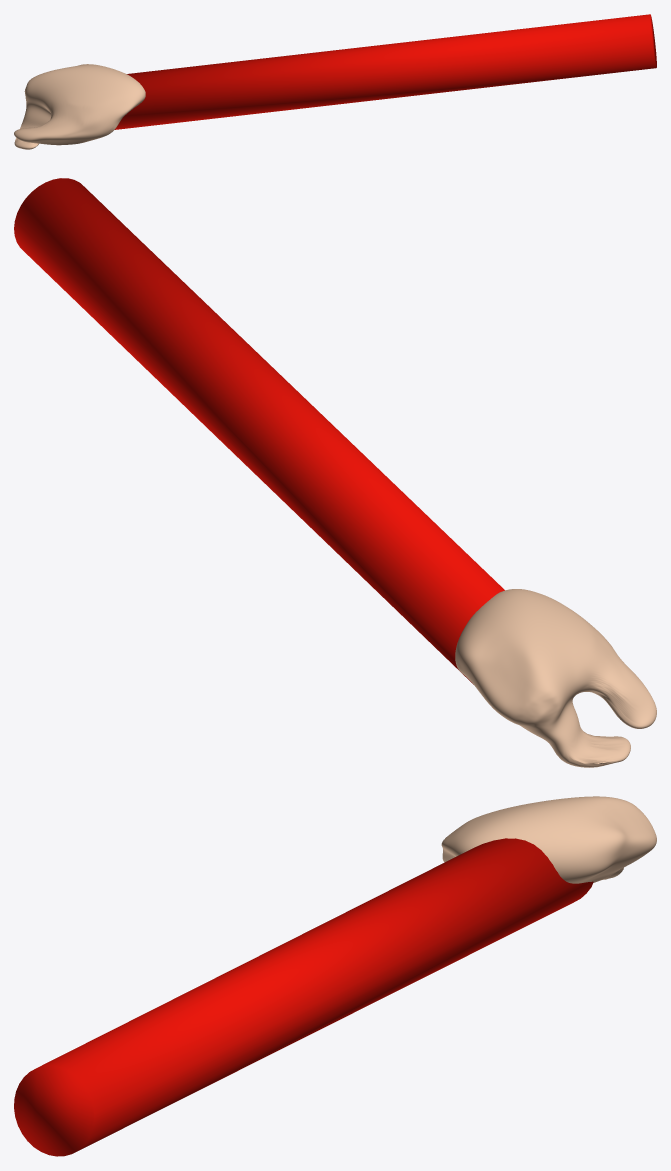
The model's file is hand.glb.
3 renders of one model, top to bottom at view 1: azimuth 30°, elevation 25°; view 2: azimuth 150°, elevation 25°; view 3: azimuth 270°, elevation 25°, orthographic. The views are drawn at different scales.
Parts seen in each view (by area): view 1: Hand; view 2: Hand; view 3: Hand.
Part boxes in pixels (x1,y1,x2,y2): Hand: (14, 14, 656, 149); Hand: (14, 178, 656, 767); Hand: (14, 796, 656, 1156).
Size of the model in its own units: 37.35 by 8.51 by 23.38.
